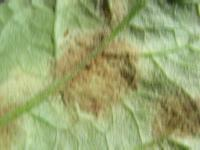Tomato mold leaf: (0, 3, 199, 150)
